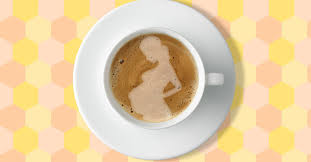cup: (101, 27, 228, 132)
